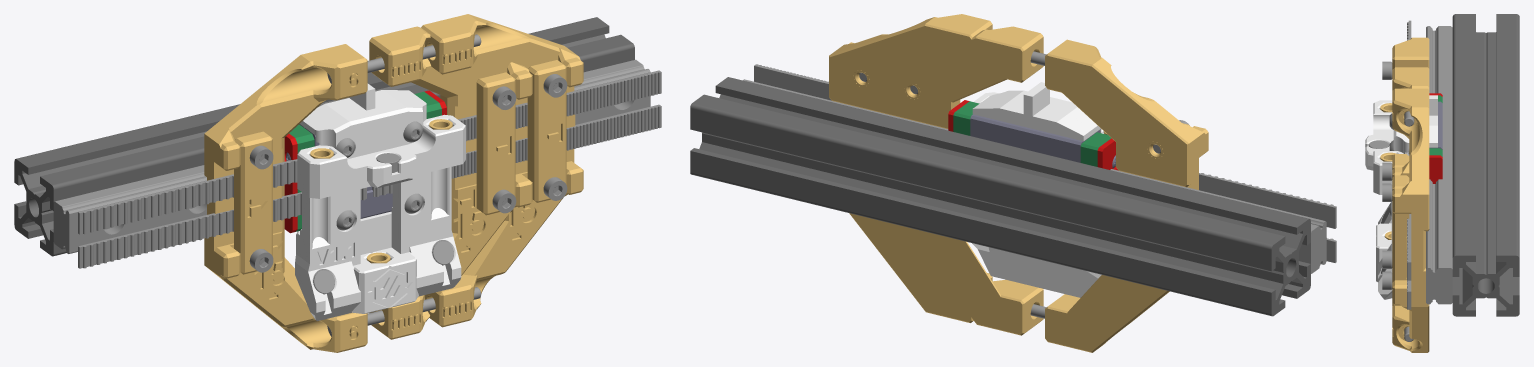
File: Printed_shuttle_Install.gltf
3 views of the same model, side by side, from view 1: azimuth 30°, elevation 25°; view 2: azimuth 150°, elevation 25°; view 3: azimuth 270°, elevation 25° (orthographic). The views are drawn at different scales.
Visible parts, largest first — view 1: Shuttle MGN12, Block Left, Extrusion, Block Right Open, Block Right, SOLID, Clip Right, Belts Left001, Clip Right Open, Belts Left, Clip Left, Belts Right (+6 smaller); view 2: Extrusion, Block Left, Block Right, Block Right Open, Shuttle MGN12, Belts Left, PRODUCT_NAME_1, SOLID, Belts Right001, Belts Right Open001, PRODUCT_NAME_2, PRODUCT_NAME_3; view 3: Extrusion, Block Right Open, SOLID, Shuttle MGN12, Clip Right Open, Block Left, Block Right, PRODUCT_NAME_5, PRODUCT_NAME_1, Belts Right Open001, Clip Right, M3x10 SHCS (+6 smaller).
Boxes of the visible parts, bbox=[...] form: Shuttle MGN12: bbox=[295, 83, 465, 321]; Block Left: bbox=[204, 44, 367, 352]; Extrusion: bbox=[14, 17, 634, 256]; Block Right Open: bbox=[421, 14, 583, 327]; Block Right: bbox=[369, 26, 532, 339]; SOLID: bbox=[53, 59, 650, 253]; Clip Right: bbox=[476, 72, 515, 215]; Belts Left001: bbox=[78, 187, 366, 268]; Clip Right Open: bbox=[527, 60, 566, 202]; Belts Left: bbox=[78, 159, 297, 234]; Clip Left: bbox=[234, 131, 272, 274]; Belts Right: bbox=[372, 105, 660, 196]; Extrusion: bbox=[690, 77, 1310, 316]; Block Left: bbox=[1045, 39, 1208, 352]; Block Right: bbox=[880, 26, 1043, 335]; Block Right Open: bbox=[829, 14, 992, 322]; Shuttle MGN12: bbox=[972, 82, 1103, 297]; Belts Left: bbox=[1199, 173, 1336, 228]; PRODUCT_NAME_1: bbox=[970, 114, 1100, 162]; SOLID: bbox=[743, 79, 1326, 273]; Belts Right001: bbox=[754, 64, 831, 100]; Belts Right Open001: bbox=[754, 64, 830, 99]; PRODUCT_NAME_2: bbox=[1080, 132, 1111, 166]; PRODUCT_NAME_3: bbox=[953, 101, 979, 135]; Extrusion: bbox=[1452, 14, 1519, 316]; Block Right Open: bbox=[1392, 88, 1429, 352]; SOLID: bbox=[1426, 26, 1452, 304]; Shuttle MGN12: bbox=[1365, 95, 1437, 299]; Clip Right Open: bbox=[1392, 175, 1409, 282]; Block Left: bbox=[1392, 37, 1429, 69]; Block Right: bbox=[1392, 67, 1429, 305]; PRODUCT_NAME_5: bbox=[1429, 155, 1442, 183]; PRODUCT_NAME_1: bbox=[1429, 101, 1442, 149]; Belts Right Open001: bbox=[1407, 214, 1411, 280]; Clip Right: bbox=[1392, 154, 1409, 169]; M3x10 SHCS: bbox=[1382, 61, 1392, 79].
Size of the model in its own units: 0.1709 by 0.081 by 0.0461.
